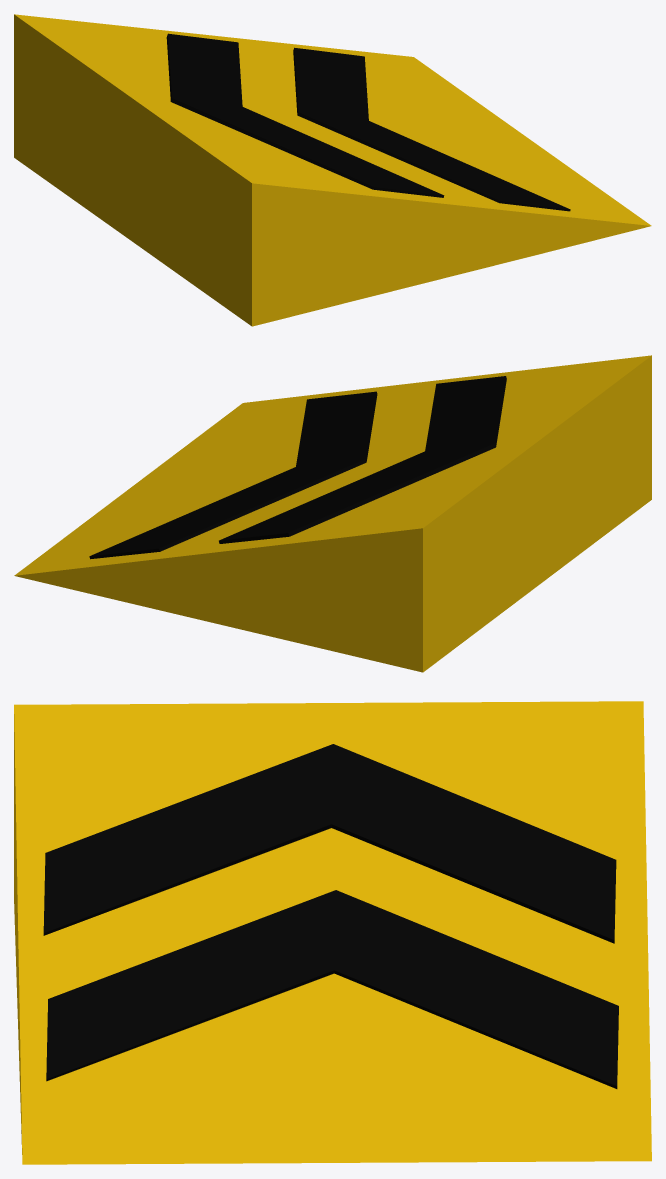
The model's file is Ramp.fbx.
The picture shows the model from 3 angles, top to bottom: view 1: azimuth 30°, elevation 25°; view 2: azimuth 150°, elevation 25°; view 3: azimuth 270°, elevation 25°; orthographic projection. The views are drawn at different scales.
Parts seen in each view (by area): view 1: Cube.005; view 2: Cube.005; view 3: Cube.005.
Part boxes in pixels (bbox=[...]): Cube.005: bbox=[14, 14, 651, 326]; Cube.005: bbox=[14, 355, 651, 672]; Cube.005: bbox=[14, 701, 651, 1164].
Bounding box in the file's own units: 425 × 143 × 425.
